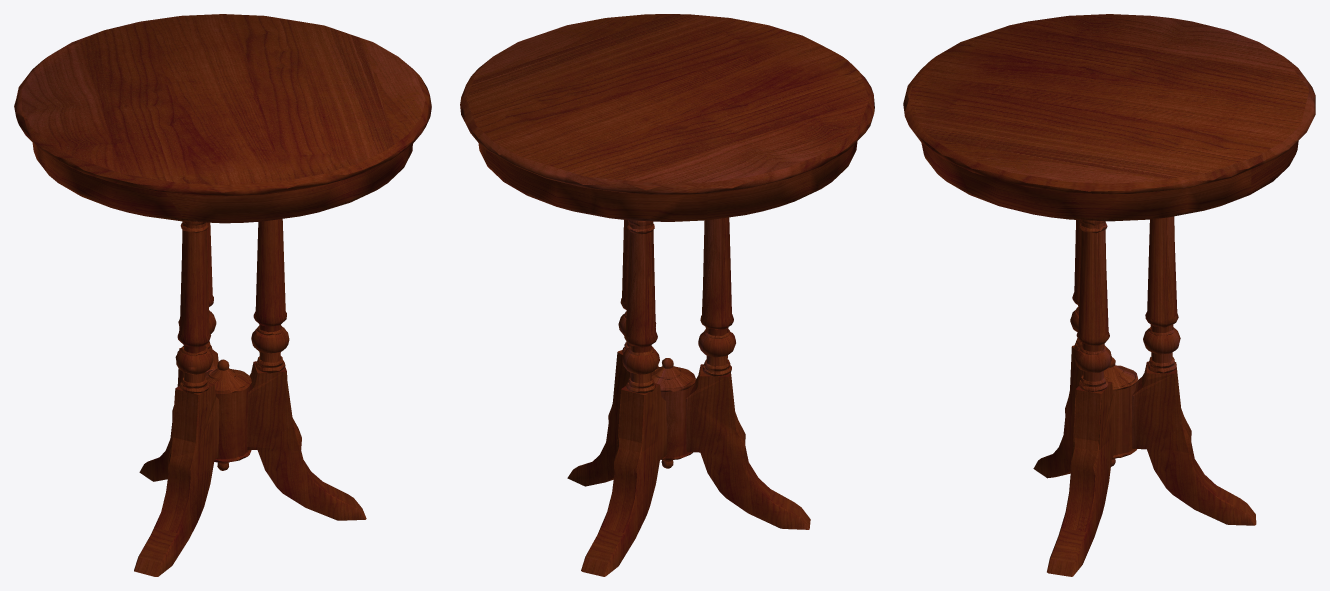
The model's file is mesilla02.FBX.
3 renders of one model, left to right at view 1: azimuth 30°, elevation 25°; view 2: azimuth 150°, elevation 25°; view 3: azimuth 270°, elevation 25°, orthographic.
Visible parts, largest first — view 1: Arch33_047_obj_002, Arch33_047_obj_003; view 2: Arch33_047_obj_002, Arch33_047_obj_003; view 3: Arch33_047_obj_002, Arch33_047_obj_003.
Boxes of the visible parts, x1,y1,x2,y2 form: Arch33_047_obj_002: (14,14,431,223); Arch33_047_obj_003: (134,219,366,576); Arch33_047_obj_002: (460,14,874,221); Arch33_047_obj_003: (567,217,810,576); Arch33_047_obj_002: (903,14,1315,221); Arch33_047_obj_003: (1033,216,1256,576).
Size of the model in its own units: 21.19 by 23.77 by 21.16.
